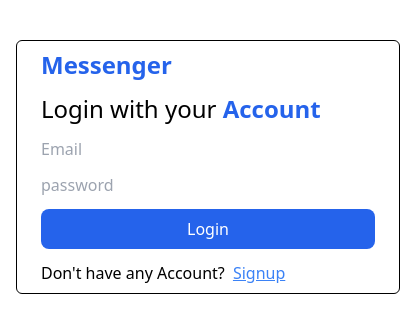
Test: Login › shows required validation when submitted empty
This screenshot has width=417, height=335.
Click the button showing "Login".
click(208, 229)  # box x1=41 y1=209 x2=375 y2=249
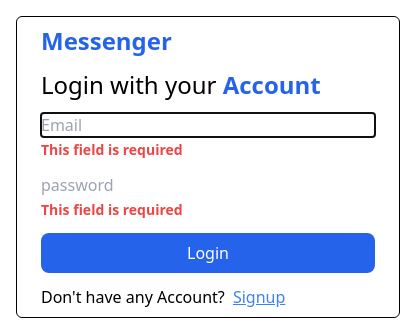
Check: the text "This field is required" is shown 2 times, box x1=41 y1=140 x2=183 y2=159; x1=41 y1=200 x2=183 y2=219
